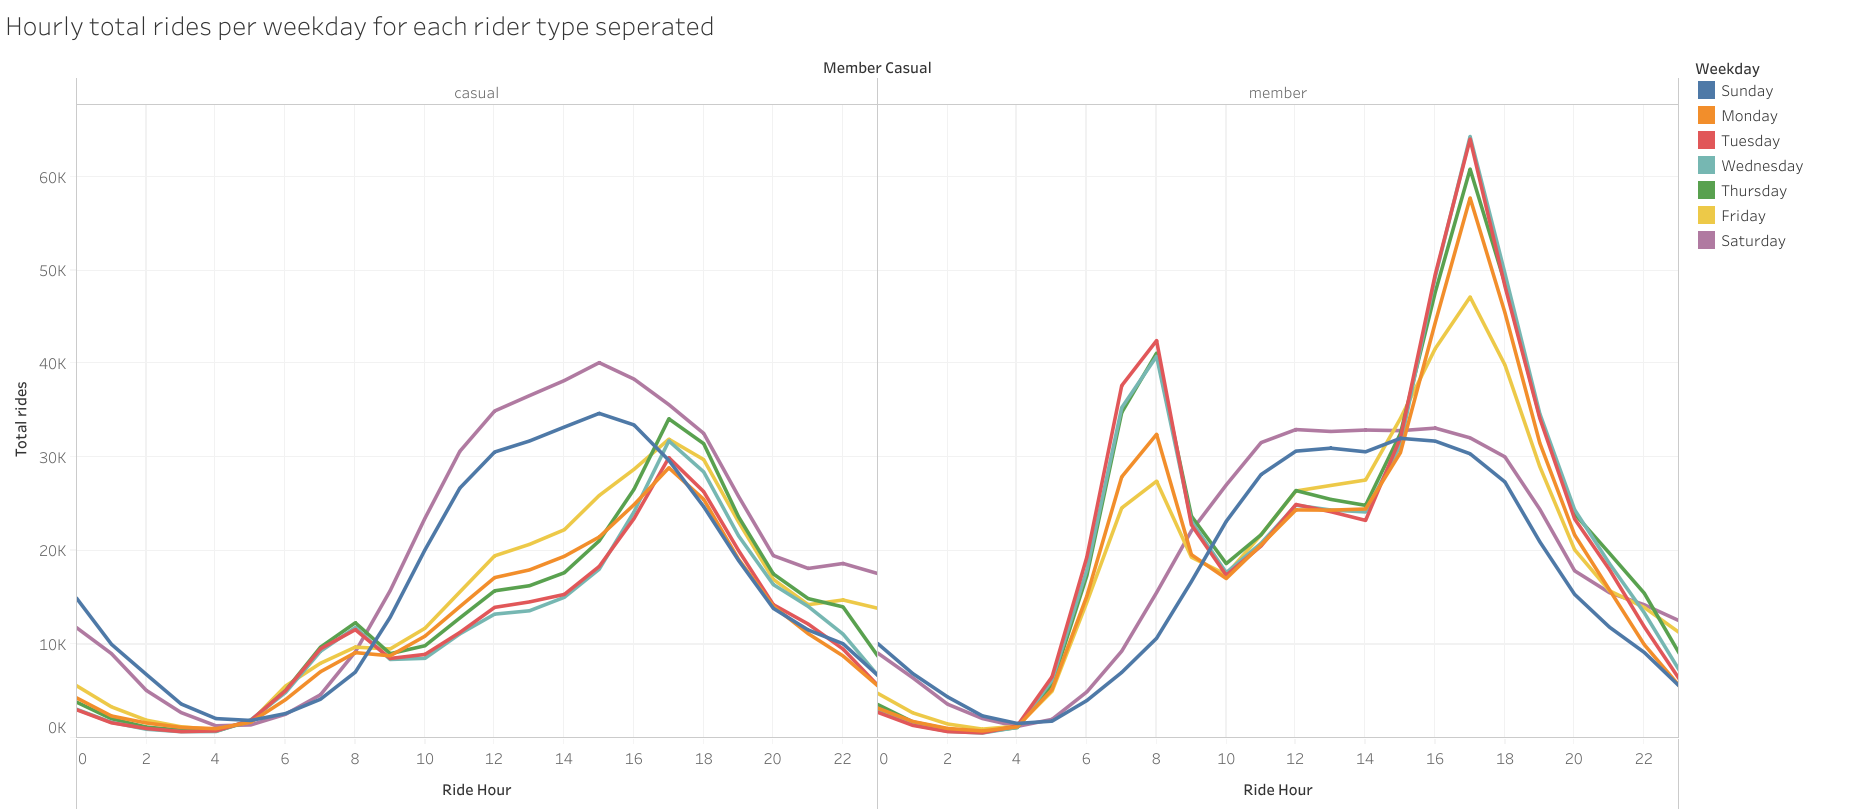

The dashboard page shown, as its layout file describes it:
{"tool":"tableau","page":{"name":"Dashboard 1","canvas":[1000,1000],"units":"permille","ordinal":0},"visuals":[{"type":"worksheet","title":"Sheet 1","mark":"Automatic","rows":["total"],"cols":["member_casual"],"box":[4.8,9.3,495.2,981.4]},{"type":"worksheet","title":"Sheet 2","mark":"Automatic","rows":["total"],"cols":["member_casual"],"box":[500,9.3,495.2,981.4]}]}

Visuals, with their boxes on the dashboard's canvas, which has no fixed pixel size, in thousandths of its width and height (x1, y1, x2, y2). These are canvas units, not pixel positions in the 1869x810 screenshot, which may show the page scaled, cropped or inside an application window:
"Sheet 1" worksheet: 5,9,500,991
"Sheet 2" worksheet: 500,9,995,991
